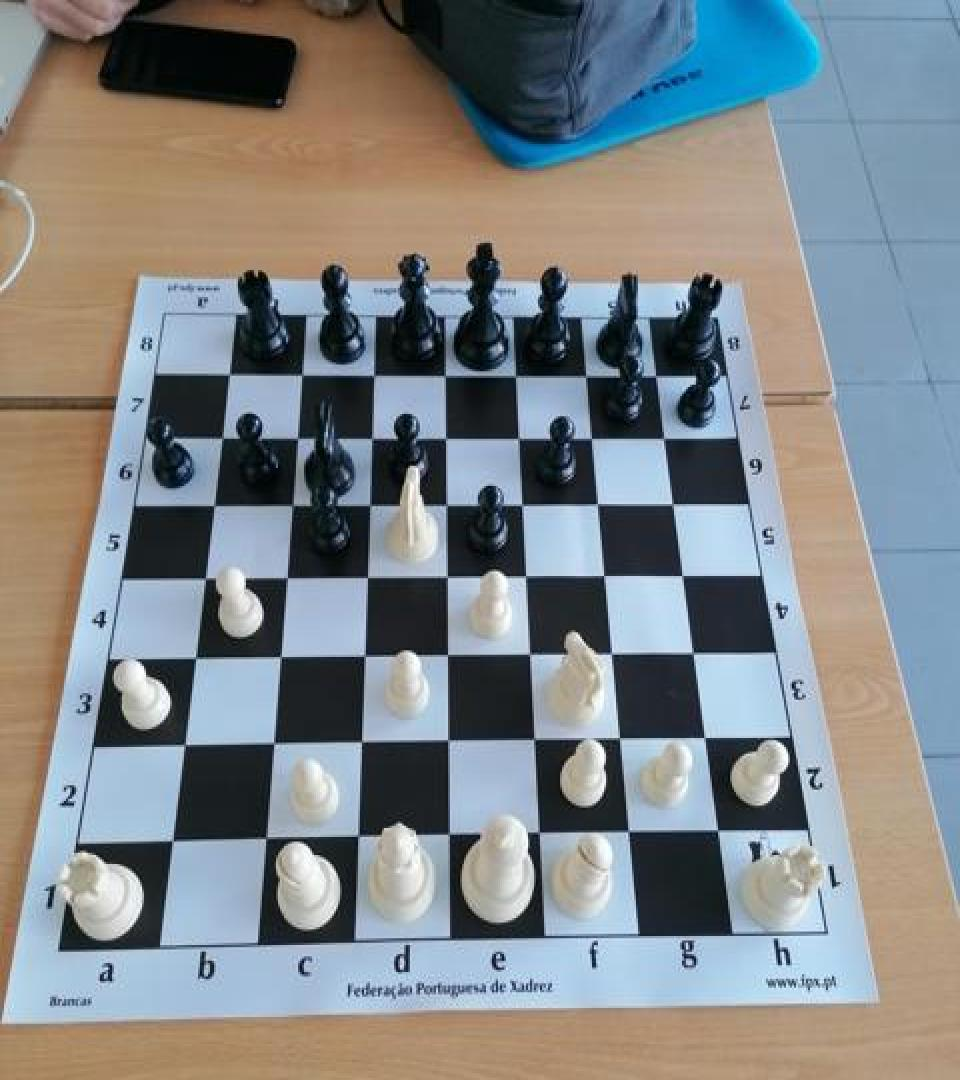xcorner: (249, 822, 281, 859), (346, 725, 378, 762), (527, 815, 559, 852), (617, 814, 649, 851), (211, 353, 243, 389), (203, 418, 235, 454), (195, 486, 227, 522), (186, 559, 218, 595), (177, 640, 209, 676), (166, 729, 198, 765), (155, 824, 187, 860), (284, 354, 316, 390), (279, 418, 311, 454), (274, 485, 306, 521), (269, 559, 301, 595), (263, 639, 295, 675), (256, 727, 288, 763), (357, 354, 389, 390), (355, 418, 387, 454), (353, 485, 385, 521), (351, 558, 383, 594), (348, 638, 380, 674), (343, 820, 375, 856), (428, 354, 460, 390), (429, 418, 461, 454), (430, 485, 462, 521), (431, 558, 463, 594), (433, 637, 465, 673), (434, 724, 466, 760), (435, 818, 467, 854), (500, 356, 532, 392), (503, 418, 535, 454), (507, 484, 539, 520), (511, 557, 543, 593), (516, 636, 548, 672), (521, 722, 553, 758), (570, 356, 602, 392), (576, 418, 608, 454), (583, 484, 615, 520), (591, 556, 623, 592), (599, 634, 631, 670), (607, 720, 639, 756), (640, 356, 672, 392), (649, 418, 681, 454), (659, 484, 691, 520), (669, 556, 701, 592), (680, 634, 712, 670), (693, 719, 725, 755), (706, 812, 738, 848)
